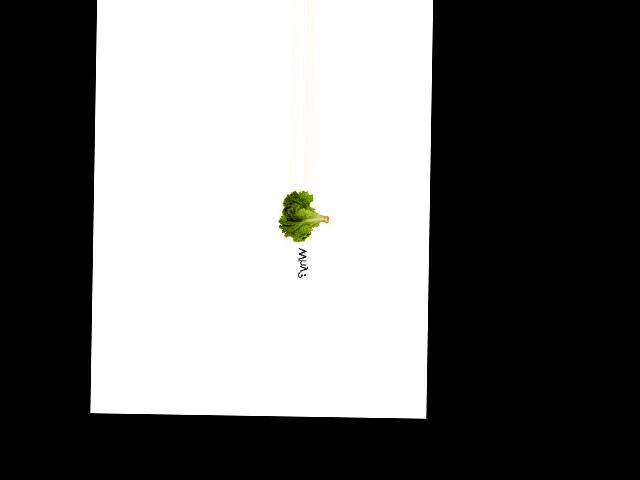lettuce: (278, 189, 330, 247)
